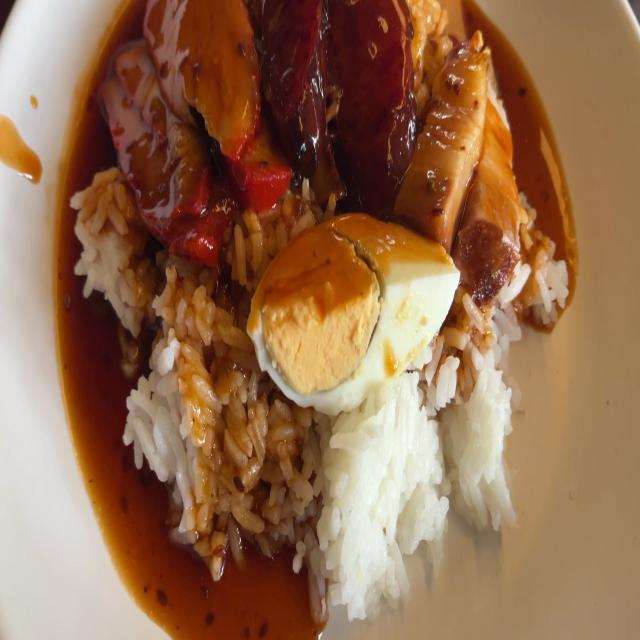01boiled_egg: (252, 214, 456, 399)
01chainese_sausage: (261, 0, 415, 206), (329, 0, 412, 224), (264, 0, 334, 186)
01crispy_pork: (424, 22, 520, 274), (408, 36, 487, 238), (480, 61, 524, 296)
01red_pork: (99, 0, 279, 250), (150, 0, 272, 195), (106, 57, 217, 240)
01red_pork_and_crispy_pork: (63, 0, 571, 612)
01rice: (124, 293, 244, 550), (328, 382, 442, 606), (449, 302, 526, 521), (76, 158, 150, 324), (532, 238, 568, 336)
